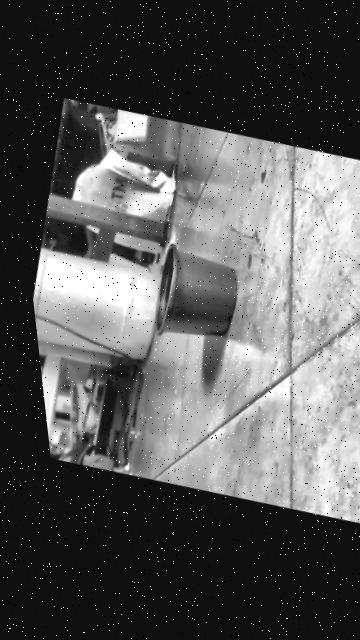pot: (142, 237, 251, 352)
